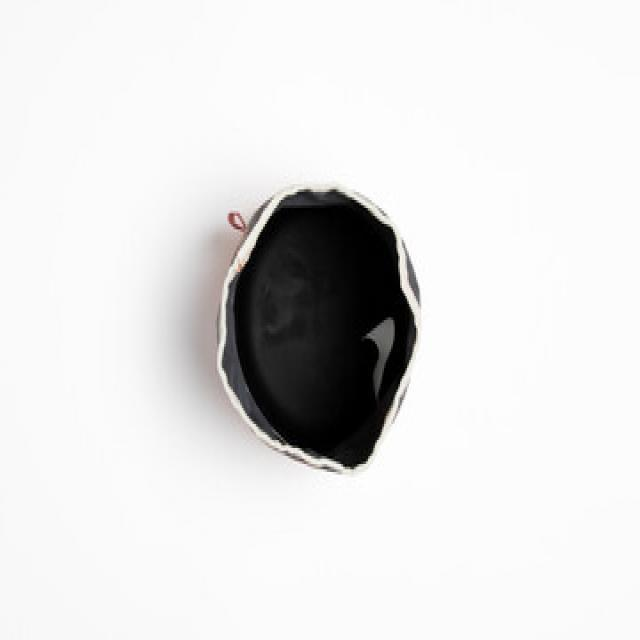Hole: (218, 187, 421, 472)
